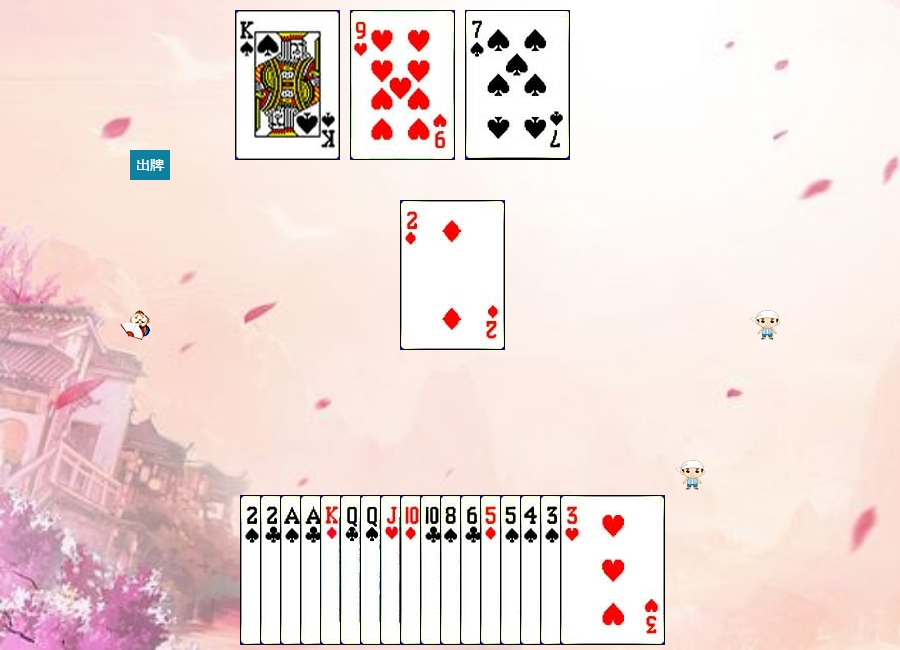10~1: (400, 495, 505, 645)
10~2: (420, 495, 525, 645)
11~3: (380, 495, 485, 645)
12~2: (340, 495, 445, 645)
12~4: (360, 495, 465, 645)
13~1: (320, 495, 425, 645)
13~4: (235, 10, 340, 160)
14~2: (300, 495, 405, 645)
14~4: (280, 495, 385, 645)
15~1: (400, 200, 505, 350)
15~2: (260, 495, 365, 645)
15~4: (240, 495, 345, 645)
3~3: (560, 495, 665, 645)
3~4: (540, 495, 645, 645)
4~4: (520, 495, 625, 645)
5~1: (480, 495, 585, 645)
5~4: (500, 495, 605, 645)
6~2: (460, 495, 565, 645)
7~4: (465, 10, 570, 160)
8~4: (440, 495, 545, 645)
9~3: (350, 10, 455, 160)
